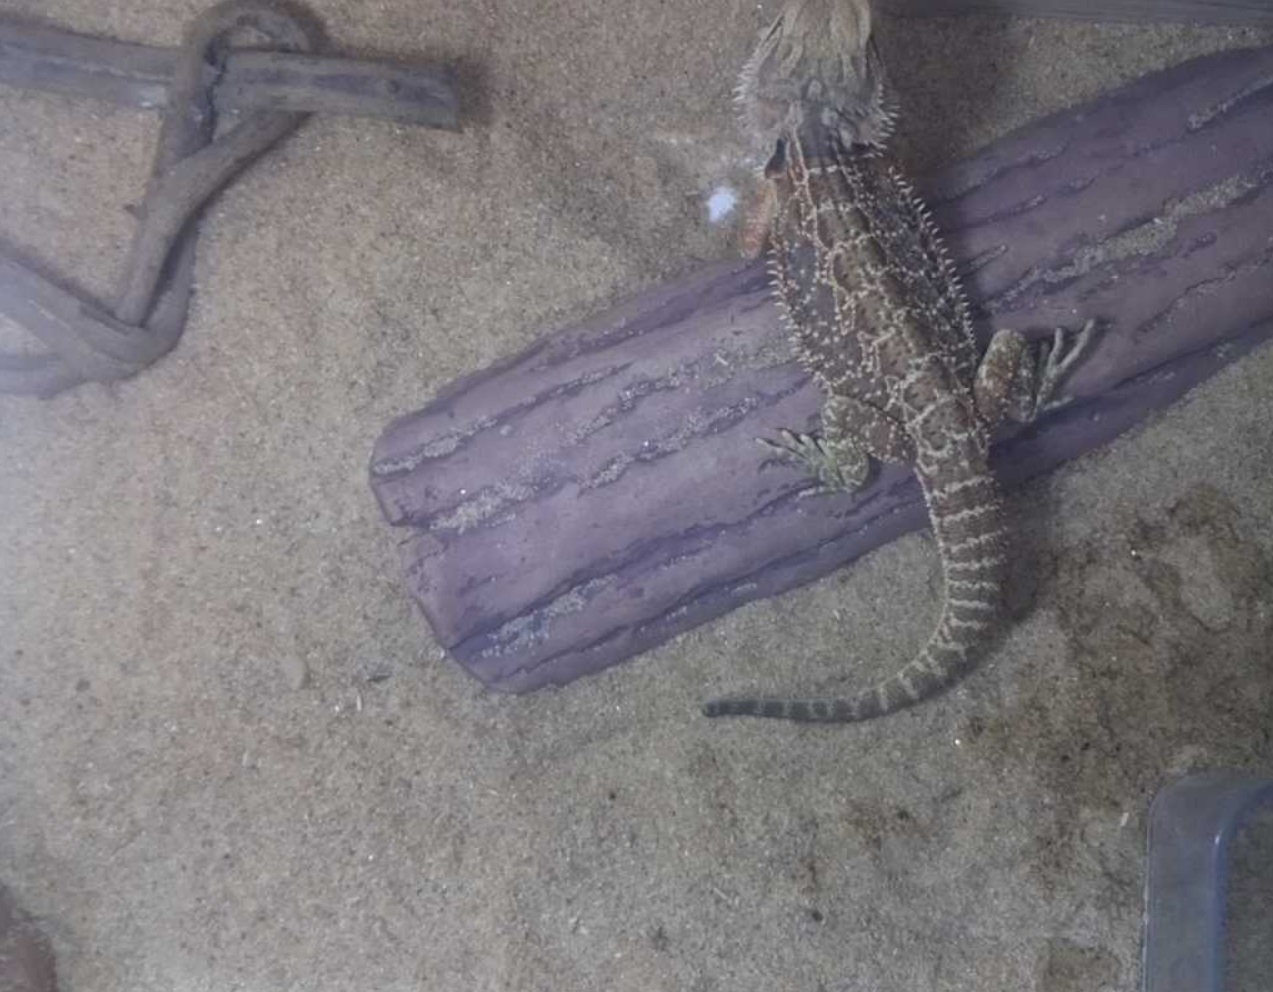bearded: (706, 4, 1106, 722)
